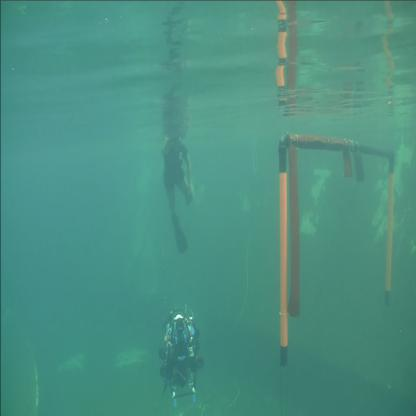gate: (272, 130, 397, 361)
